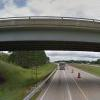Bridge: (0, 7, 98, 55)
